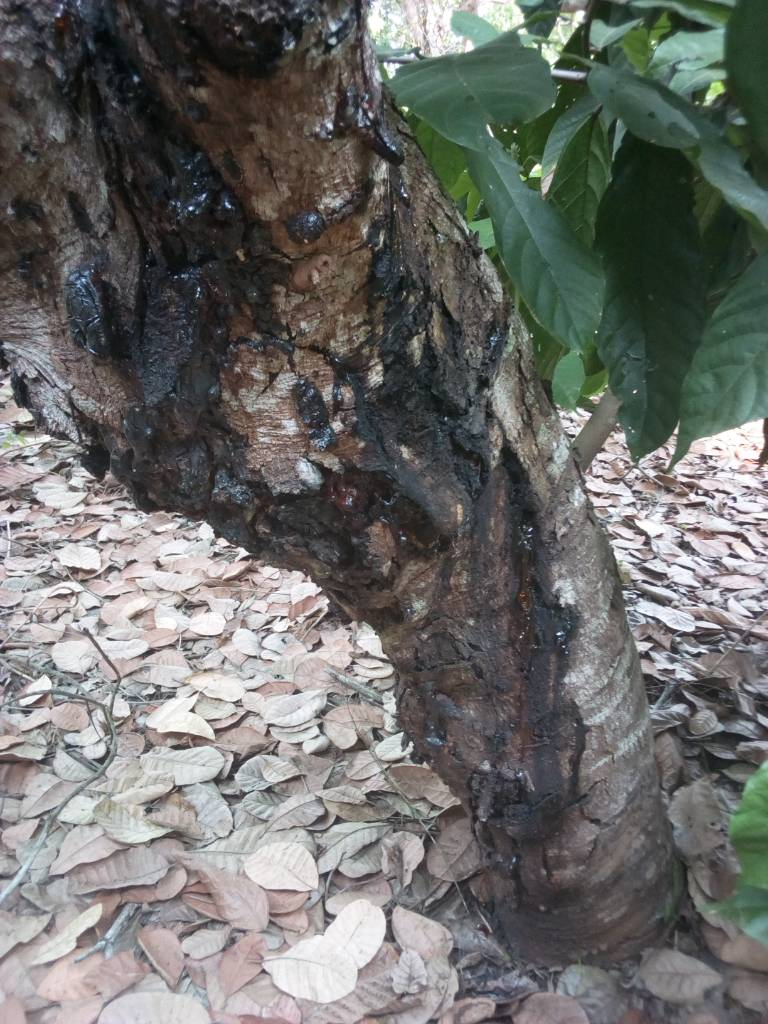Gommose: (290, 374, 563, 621), (121, 96, 250, 485)
